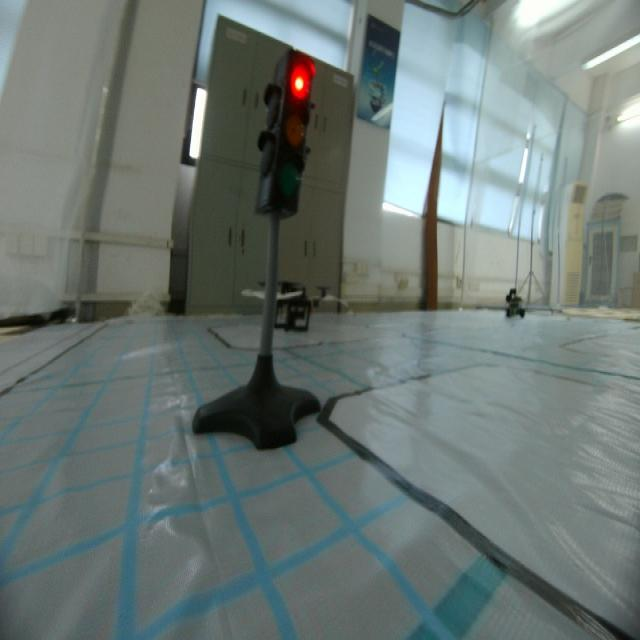red: (253, 44, 311, 229)
